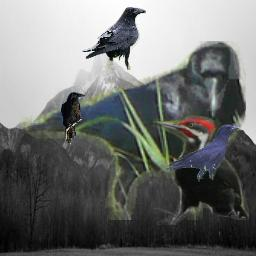Crow: (20, 41, 246, 220), (165, 124, 239, 184), (81, 7, 146, 70), (61, 92, 85, 146)
Woodpecker: (153, 111, 249, 225)
